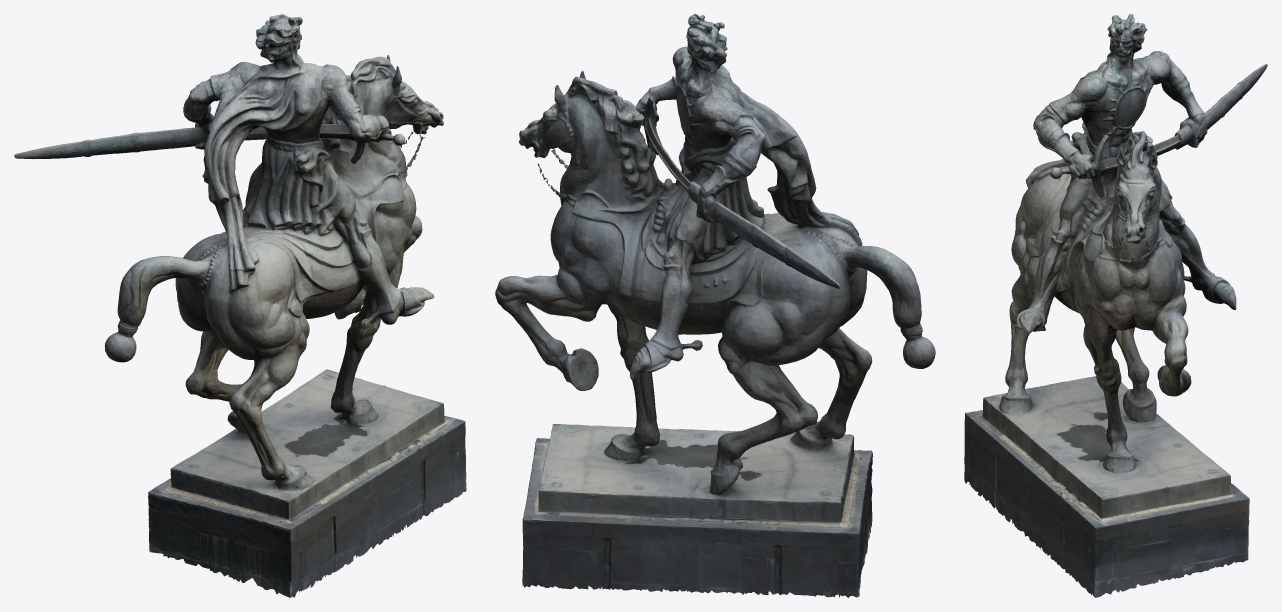
Rendered from saakadze.glb.
The picture shows the model from 3 angles, left to right: view 1: azimuth 30°, elevation 25°; view 2: azimuth 150°, elevation 25°; view 3: azimuth 270°, elevation 25°; orthographic projection. The views are drawn at different scales.
Visible parts, largest first — view 1: saakadze_mod; view 2: saakadze_mod; view 3: saakadze_mod.
Part boxes in pixels (bbox=[...]): saakadze_mod: bbox=[14, 14, 466, 597]; saakadze_mod: bbox=[495, 14, 935, 597]; saakadze_mod: bbox=[964, 14, 1267, 597].
Bounding box in the file's own units: 0.755 × 1 × 0.5495.
1 material, 1 textured.
